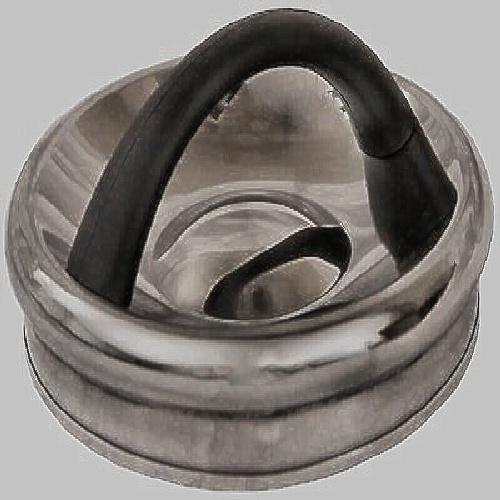kettle: (37, 43, 483, 470)
